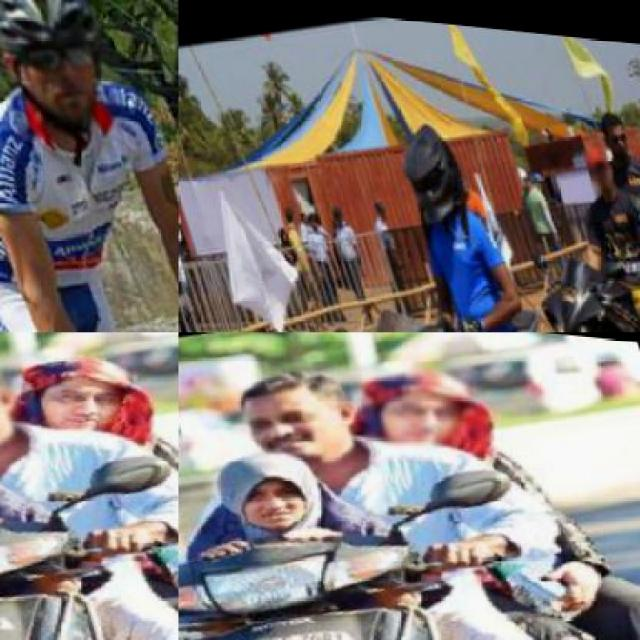With Helmet: (0, 0, 132, 151), (388, 114, 472, 218)
Without Helmet: (217, 343, 377, 483), (344, 336, 496, 462), (3, 332, 157, 450), (0, 332, 37, 470), (580, 133, 618, 189)
